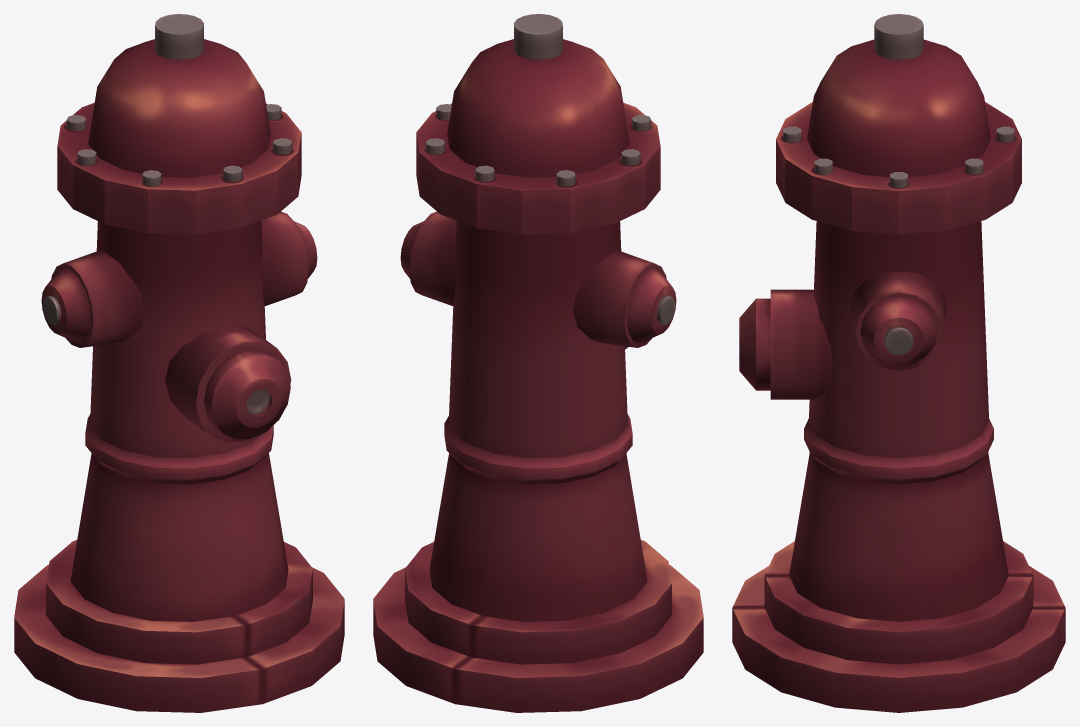
File: hydrant.fbx
3 renders of one model, left to right at view 1: azimuth 30°, elevation 25°; view 2: azimuth 150°, elevation 25°; view 3: azimuth 270°, elevation 25°, orthographic.
Parts seen in each view (by area): view 1: hydrant001; view 2: hydrant001; view 3: hydrant001.
Boxes of the visible parts, left/top/right/bottom form: hydrant001: left=14, top=14, right=344, bottom=712; hydrant001: left=373, top=14, right=703, bottom=712; hydrant001: left=732, top=14, right=1065, bottom=712.
Size of the model in its own units: 19.87 by 40.69 by 19.87.
